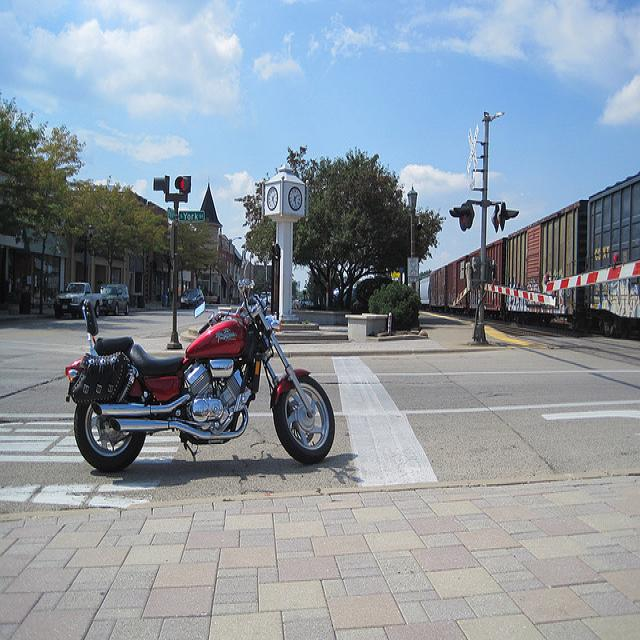motor: (61, 279, 337, 477)
